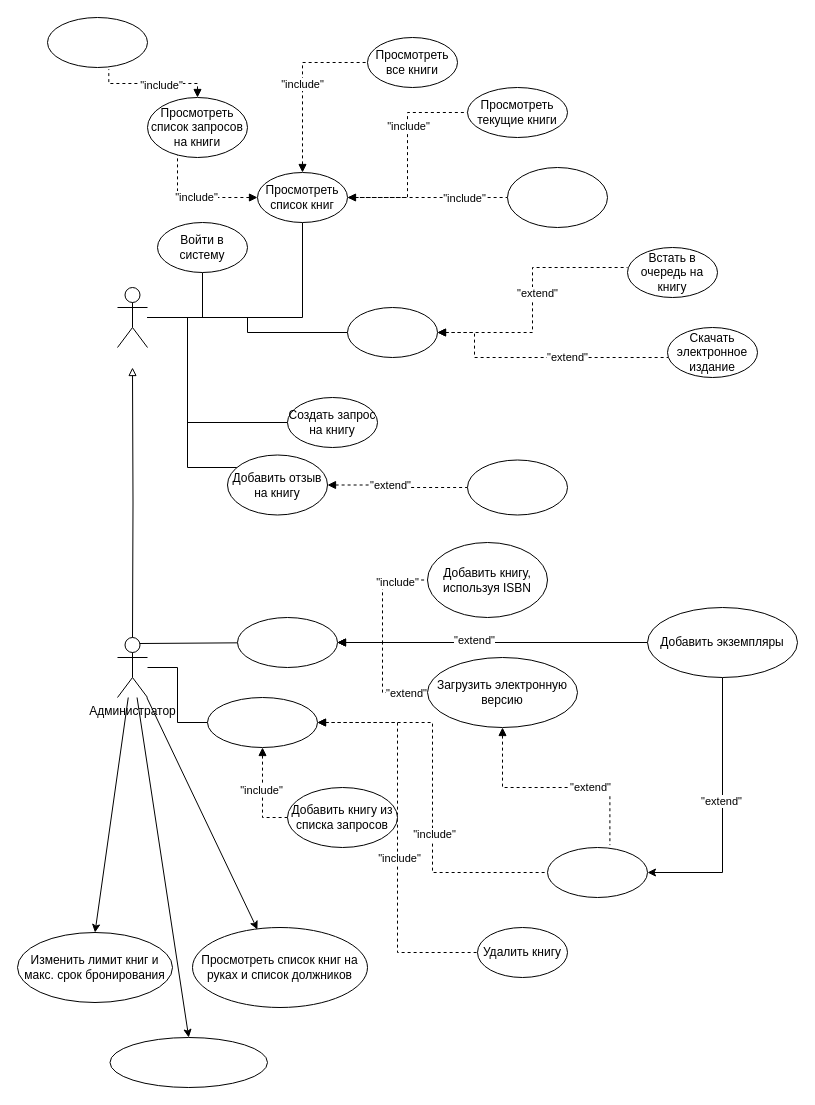
Image size: 815x1105. Some labels were removed from this diagram. Here are the shapes that lost their labels. From the top down, the box of each, then its label:
(46, 16, 148, 68): Проголосовать за книгу
(506, 166, 608, 228): Просмотреть прочитанные книги
(116, 286, 148, 348): Читатель
(346, 306, 438, 358): Взять/вернуть книгу
(466, 459, 568, 515): Удалить свой отзыв на книгу
(236, 616, 338, 668): Добавить книгу
(206, 696, 318, 748): Редактировать список книг
(546, 846, 648, 898): Изменять информацию о книге
(109, 1036, 268, 1088): Редактировать список тегов
